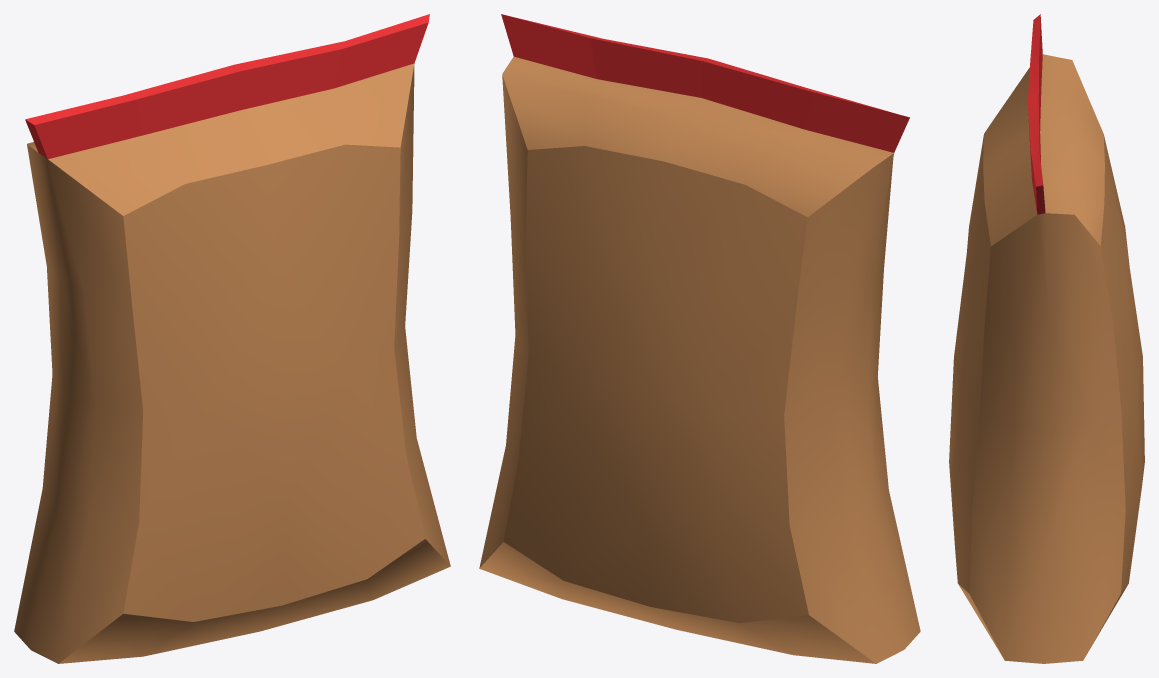
Rendered from SM_chips_bag.fbx.
3 views of the same model, side by side, from view 1: azimuth 30°, elevation 25°; view 2: azimuth 150°, elevation 25°; view 3: azimuth 270°, elevation 25° (orthographic). The views are drawn at different scales.
Parts seen in each view (by area): view 1: chips_bag; view 2: chips_bag; view 3: chips_bag.
Boxes of the visible parts, x1=… form: chips_bag: x1=14, y1=14, x2=450, y2=663; chips_bag: x1=479, y1=14, x2=920, y2=663; chips_bag: x1=949, y1=14, x2=1144, y2=663.
Size of the model in its own units: 40.06 by 51.5 by 18.64.
